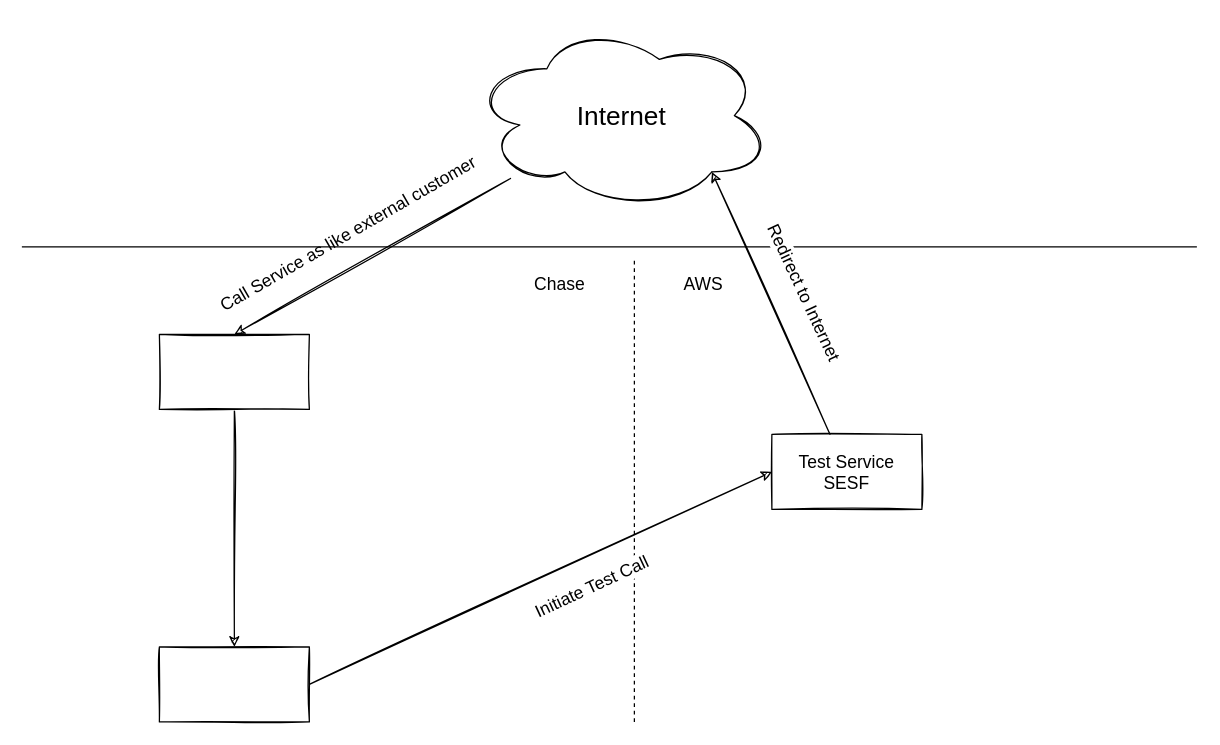
The diagram is 1220 pixels wide and 745 high, and some of its shapes have lost their labels. Each missing label, with the centre of its shape:
API Gateway SESF: pixel 233 371
Test Harness ESF: pixel 233 684
